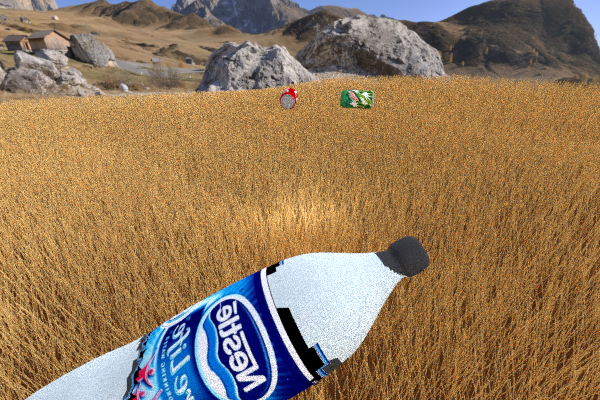bottle: (0, 236, 429, 400)
can: (339, 89, 374, 108), (279, 87, 297, 109)
